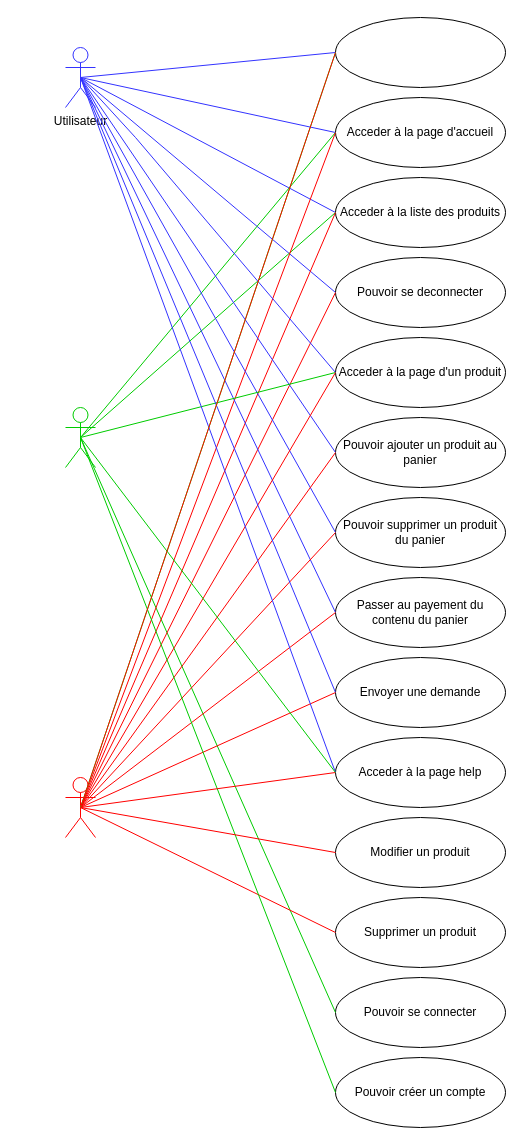
Some shapes in this 523 by 1145 pixel diagram are drawn without their labels. The box of each missing label's shape, as (x1, y1, x2, y2) in pixels:
Acceder à la page de profil: (334, 16, 506, 88)
Admin: (64, 776, 96, 838)
Personne non-connecté: (64, 406, 96, 468)
